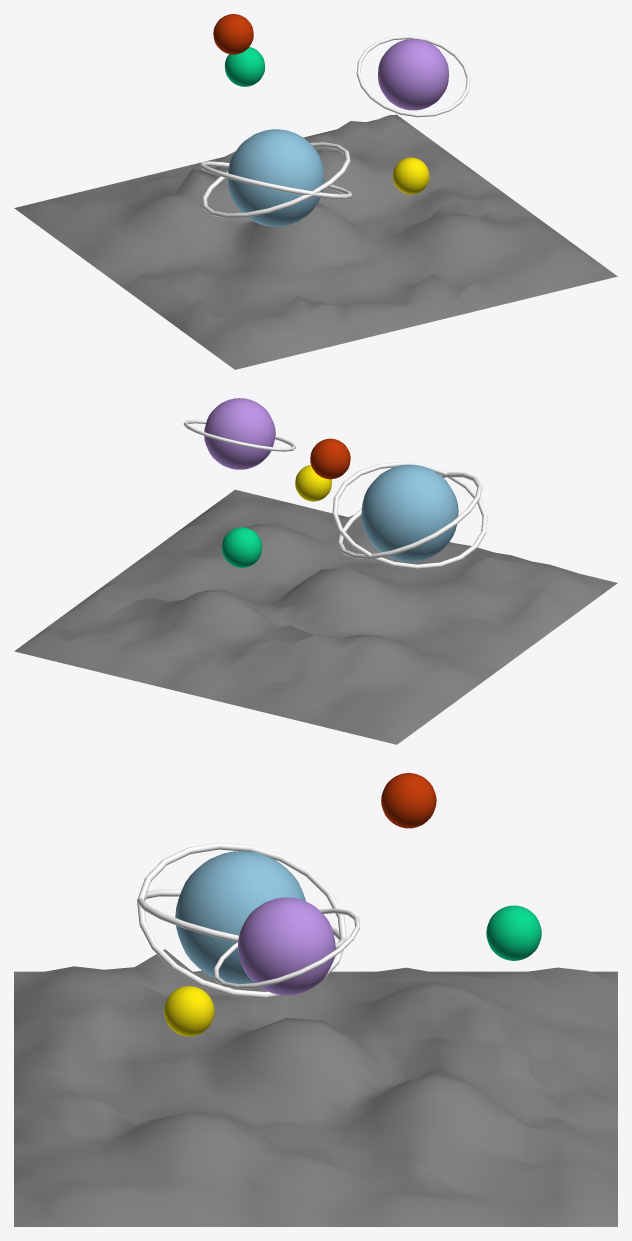
Rendered from UPDATEDnonwalkingTile.fbx.
The picture shows the model from 3 angles, top to bottom: view 1: azimuth 30°, elevation 25°; view 2: azimuth 150°, elevation 25°; view 3: azimuth 270°, elevation 25°; orthographic projection. The views are drawn at different scales.
Parts seen in each view (by area): view 1: nonwalkingtile, planetCluster:planet (×2), planetCluster:planetRing (×2), planetCluster:miniPlanet3, planetCluster:miniPlanet2, planetCluster:planetRing1, planetCluster:miniPlanet; view 2: nonwalkingtile, planetCluster:planet (×2), planetCluster:planetRing (×2), planetCluster:planetRing1, planetCluster:miniPlanet3, planetCluster:miniPlanet2, planetCluster:miniPlanet; view 3: nonwalkingtile, planetCluster:planet (×2), planetCluster:planetRing1, planetCluster:planetRing (×2), planetCluster:miniPlanet2, planetCluster:miniPlanet3, planetCluster:miniPlanet.
Boxes of the visible parts, x1,y1,x2,y2 form: nonwalkingtile: (14, 114, 617, 369); planetCluster:planet (×2): (228, 39, 448, 226); planetCluster:planetRing (×2): (202, 35, 470, 218); planetCluster:miniPlanet3: (213, 14, 253, 54); planetCluster:miniPlanet2: (224, 47, 264, 86); planetCluster:planetRing1: (199, 161, 352, 199); planetCluster:miniPlanet: (392, 157, 429, 194); nonwalkingtile: (14, 489, 617, 744); planetCluster:planet (×2): (204, 398, 458, 561); planetCluster:planetRing (×2): (183, 419, 487, 569); planetCluster:planetRing1: (337, 472, 482, 558); planetCluster:miniPlanet3: (310, 438, 350, 479); planetCluster:miniPlanet2: (222, 527, 262, 567); planetCluster:miniPlanet: (295, 465, 331, 501); nonwalkingtile: (14, 949, 617, 1226); planetCluster:planet (×2): (175, 851, 335, 995); planetCluster:planetRing1: (137, 842, 346, 998); planetCluster:planetRing (×2): (137, 889, 360, 989); planetCluster:miniPlanet2: (486, 905, 541, 960); planetCluster:miniPlanet3: (381, 773, 436, 828); planetCluster:miniPlanet: (164, 986, 214, 1036).
Size of the model in its own units: 23.9 by 12.73 by 23.9.
